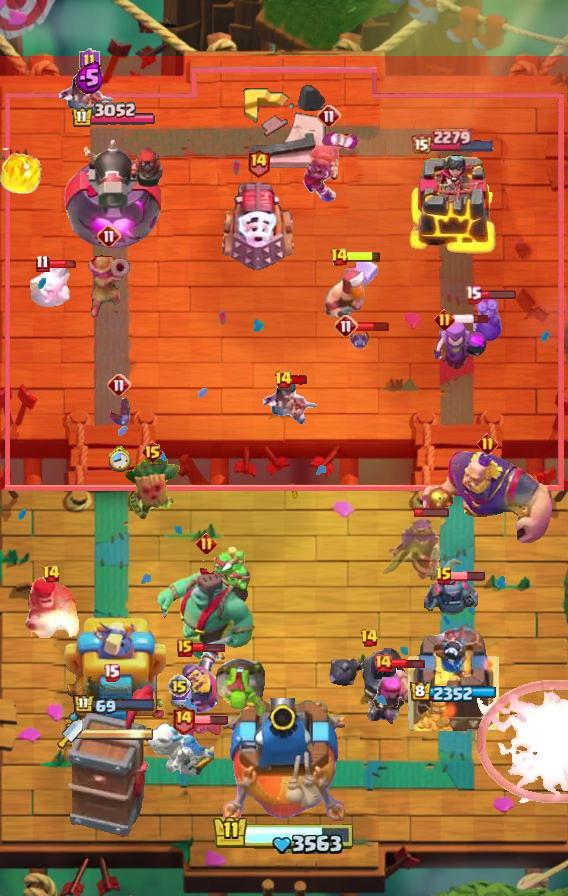bar: (62, 611, 166, 731)
bar-level: (215, 657, 269, 719)
barbarian-barrel: (182, 719, 222, 749), (106, 398, 132, 428), (347, 326, 371, 352)
barbarian-evolution: (477, 680, 567, 804)
barbarian-hut: (378, 515, 464, 593)
bat: (28, 261, 72, 307)
battle-ram: (424, 578, 484, 618)
bomb-tower: (88, 249, 130, 319)
clock: (212, 815, 356, 857)
dart-goblin: (66, 683, 156, 839)
electro-spirit: (76, 61, 105, 95)
elixir: (107, 445, 131, 472)
emote: (346, 249, 382, 262), (390, 657, 426, 670), (480, 288, 517, 300), (454, 313, 491, 325), (450, 570, 486, 582), (193, 714, 229, 726), (414, 507, 450, 518), (190, 642, 225, 653), (356, 320, 390, 331), (47, 259, 79, 269), (290, 374, 310, 386)
firecracker-evolution: (166, 649, 225, 716)
goblin-barrel: (123, 456, 181, 524)
golem: (219, 179, 297, 273)
ice-golem: (470, 291, 504, 347)
king-tower: (223, 698, 345, 826)
king-tower-bar: (83, 727, 155, 741)
lava-hound: (154, 545, 258, 667)
lightning: (421, 450, 556, 550)
mighty-miner: (323, 253, 381, 329)
mini-pekka: (144, 696, 214, 778)
phoenix-small: (22, 574, 80, 638)
queen-tower: (407, 627, 499, 731), (408, 154, 498, 256)
rascal-girl: (430, 318, 488, 374)
royal-guardian: (324, 641, 414, 723)
selected: (71, 102, 157, 129), (412, 128, 497, 154), (411, 682, 498, 704), (72, 694, 155, 716)
skeleton-dragon: (58, 73, 120, 125), (262, 379, 324, 431)
tesla-evolution: (300, 129, 358, 203)
text: (245, 147, 270, 178), (172, 704, 197, 735), (317, 104, 341, 128), (97, 224, 121, 248), (334, 314, 358, 338), (107, 373, 131, 397), (167, 674, 191, 698), (141, 440, 164, 464), (80, 48, 101, 74), (195, 533, 217, 555), (433, 309, 454, 331), (477, 434, 499, 455), (274, 370, 294, 390), (373, 653, 393, 673), (331, 247, 350, 267), (42, 564, 61, 584), (360, 628, 379, 648), (435, 566, 453, 586), (465, 285, 483, 303), (103, 663, 121, 681), (177, 639, 193, 657), (35, 255, 50, 273)
tombstone: (372, 667, 420, 729)
tower-bar: (60, 132, 167, 256)
valkyrie: (0, 141, 46, 197)
